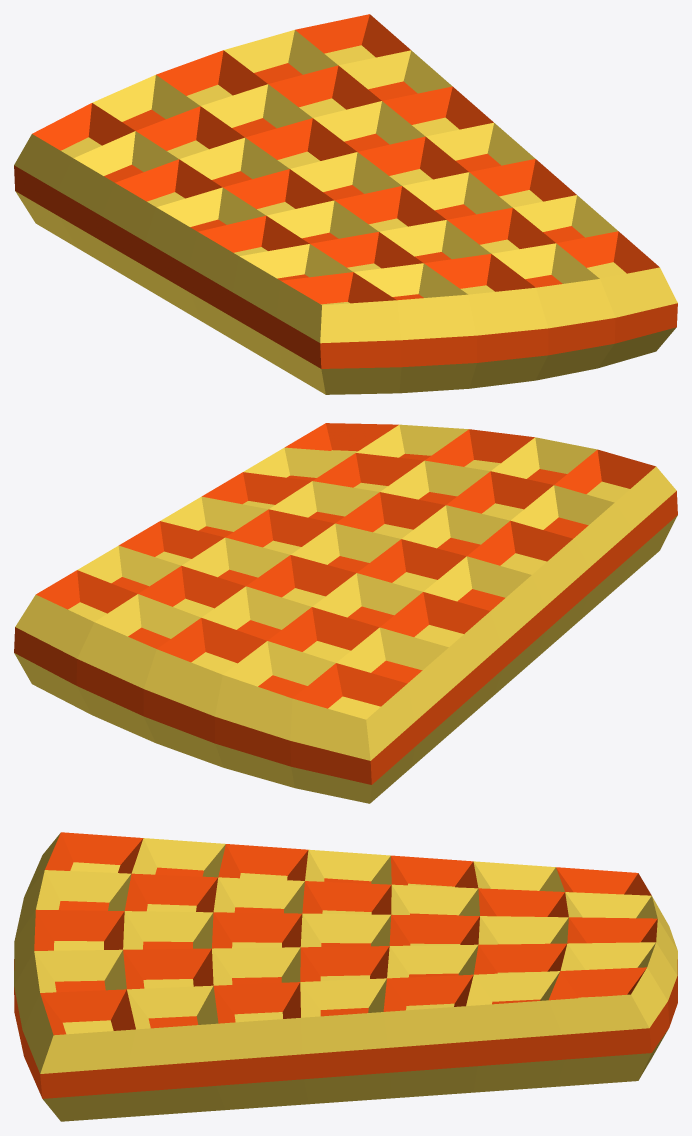
File: M_waffle_da.fbx
3 renders of one model, top to bottom at view 1: azimuth 30°, elevation 25°; view 2: azimuth 150°, elevation 25°; view 3: azimuth 270°, elevation 25°, orthographic.
Visible parts, largest first — view 1: Cube.022; view 2: Cube.022; view 3: Cube.022.
Boxes of the visible parts, x1=… form: Cube.022: x1=14, y1=14, x2=677, y2=394; Cube.022: x1=14, y1=423, x2=677, y2=803; Cube.022: x1=14, y1=832, x2=677, y2=1121.
Bounding box in the file's own units: 55.9 × 19.15 × 90.57.
